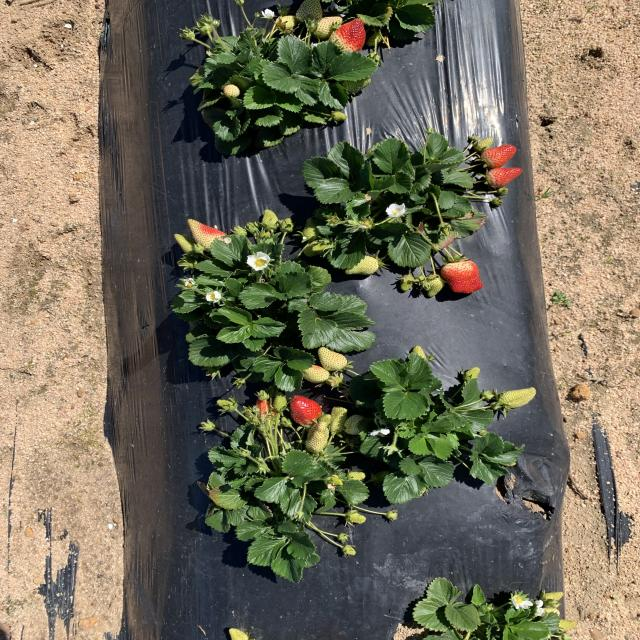unripe: (288, 393, 325, 427), (443, 263, 482, 293), (333, 18, 367, 52), (481, 141, 519, 166), (484, 167, 523, 186)
